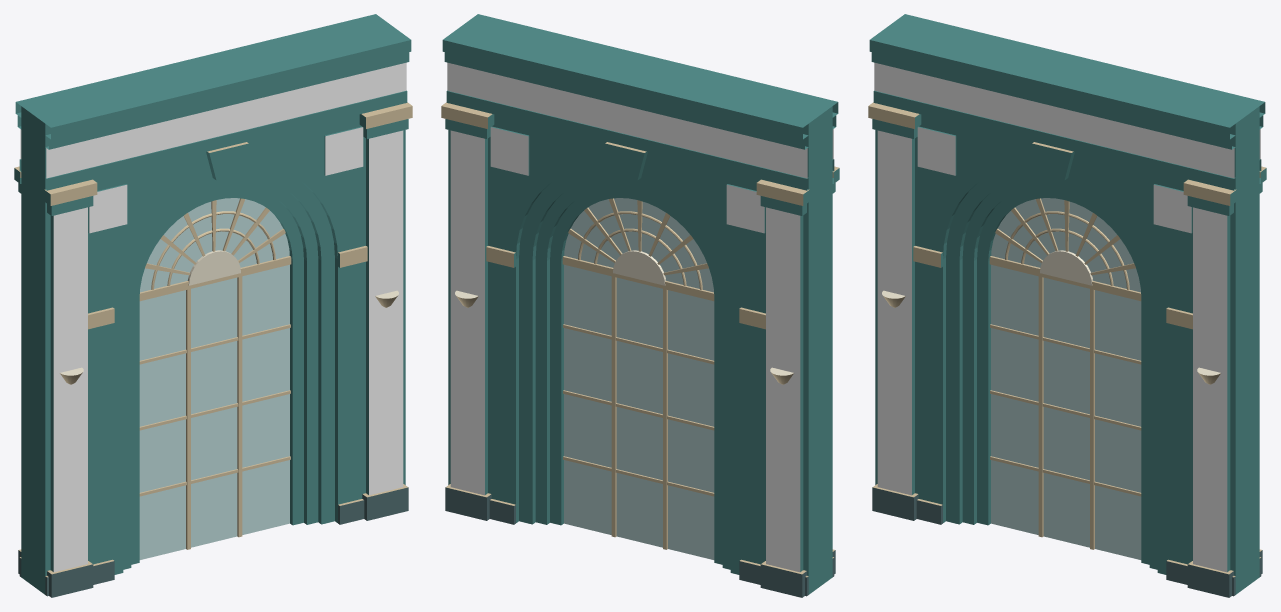
The model's file is KC32__AD_Int_Arch_Window.glb.
The picture shows the model from 3 angles, left to right: view 1: azimuth 30°, elevation 25°; view 2: azimuth 150°, elevation 25°; view 3: azimuth 330°, elevation 25°; orthographic projection.
Parts seen in each view (by area): view 1: KC32_CORPS__AD_Int_Arch_Window, KC32_VITRAGE__AD_Int_Arch_Window, KC32_ACCENT__AD_Int_Arch_Window, KC32_BRONZE__AD_Int_Arch_Window, KC32_LUMIERE__AD_Int_Arch_Window; view 2: KC32_CORPS__AD_Int_Arch_Window, KC32_VITRAGE__AD_Int_Arch_Window, KC32_ACCENT__AD_Int_Arch_Window, KC32_BRONZE__AD_Int_Arch_Window, KC32_LUMIERE__AD_Int_Arch_Window; view 3: KC32_CORPS__AD_Int_Arch_Window, KC32_VITRAGE__AD_Int_Arch_Window, KC32_ACCENT__AD_Int_Arch_Window, KC32_BRONZE__AD_Int_Arch_Window, KC32_LUMIERE__AD_Int_Arch_Window.
Part boxes in pixels (x1,y1,x2,y2): KC32_CORPS__AD_Int_Arch_Window: [14, 14, 411, 597]; KC32_VITRAGE__AD_Int_Arch_Window: [139, 198, 289, 559]; KC32_ACCENT__AD_Int_Arch_Window: [20, 62, 406, 572]; KC32_BRONZE__AD_Int_Arch_Window: [14, 102, 412, 577]; KC32_LUMIERE__AD_Int_Arch_Window: [60, 250, 398, 375]; KC32_CORPS__AD_Int_Arch_Window: [442, 14, 839, 597]; KC32_VITRAGE__AD_Int_Arch_Window: [564, 198, 714, 559]; KC32_ACCENT__AD_Int_Arch_Window: [447, 62, 833, 572]; KC32_BRONZE__AD_Int_Arch_Window: [441, 102, 839, 577]; KC32_LUMIERE__AD_Int_Arch_Window: [455, 250, 793, 375]; KC32_CORPS__AD_Int_Arch_Window: [869, 14, 1266, 597]; KC32_VITRAGE__AD_Int_Arch_Window: [991, 198, 1141, 559]; KC32_ACCENT__AD_Int_Arch_Window: [874, 62, 1260, 572]; KC32_BRONZE__AD_Int_Arch_Window: [868, 102, 1266, 577]; KC32_LUMIERE__AD_Int_Arch_Window: [882, 250, 1220, 375].
Size of the model in its own units: 8.04 by 10 by 1.66.
